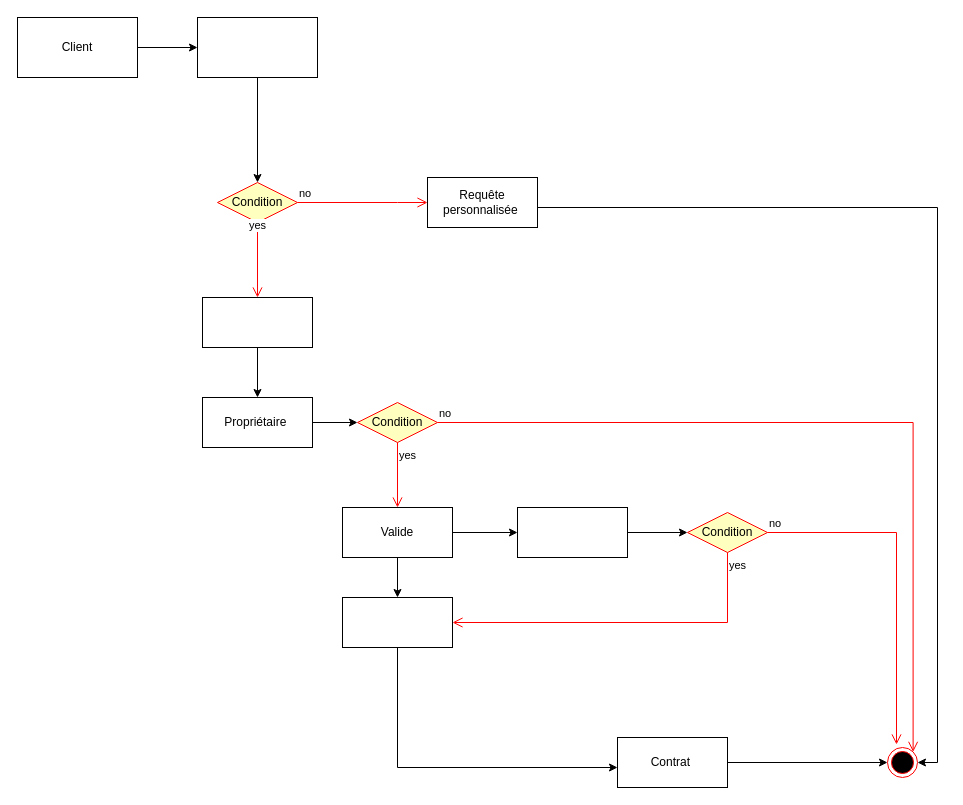
This 963x805 diagram has some shape labels left out. Here are the shapes that lost their labels. From the top down, the centre of each, then its label:
point (257, 47): Recherche
point (257, 322): Demande
point (572, 532): Demande une visite
point (397, 622): Paiement acompte
